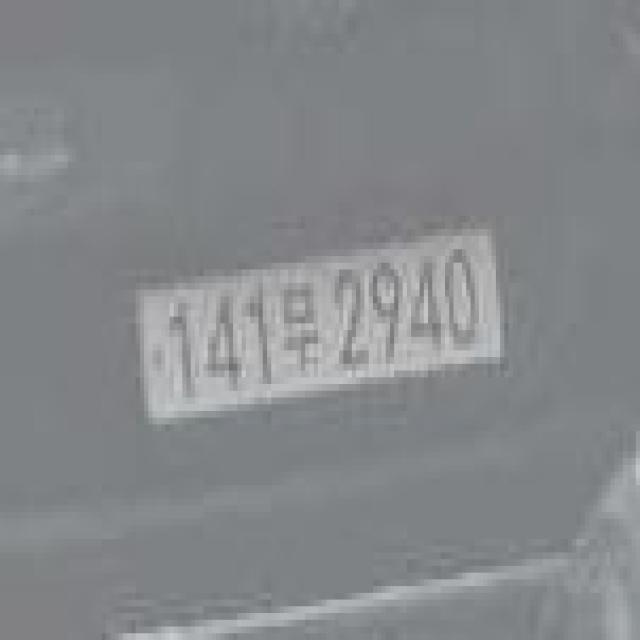illegal_plate: (133, 221, 508, 434)
